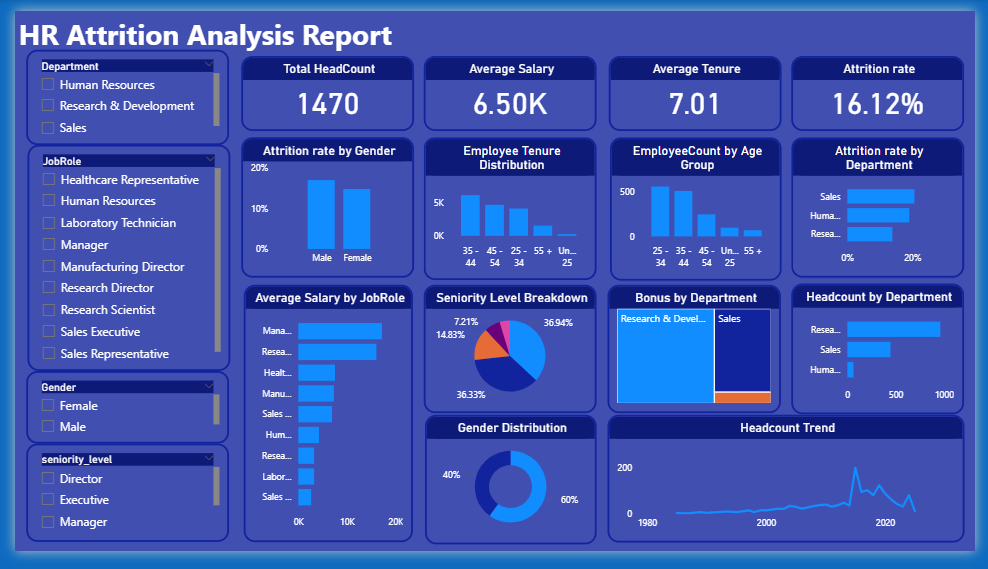

Layout of this report page (visuals, bound fields, positions):
{"tool":"powerbi","page":{"name":"Page 1","canvas":[1280,720],"ordinal":0},"visuals":[{"type":"textbox","box":[0,0,531,60.4],"z":0},{"type":"slicer","fields":{"Values":["HR_Data.Department"]},"box":[15.7,51.4,270,127.1],"z":1000},{"type":"slicer","fields":{"Values":["HR_Data.JobRole"]},"box":[17.1,178.6,270,301.4],"z":2000},{"type":"slicer","fields":{"Values":["HR_Data.Gender"]},"box":[15.7,480,270,97.1],"z":3000},{"type":"slicer","fields":{"Values":["HR_Data.seniority_level"]},"box":[15.7,577.1,270,131.4],"z":4000},{"type":"card","title":"Average Salary","fields":{"Values":["Avg(HR_Data.MonthlyIncome)"]},"box":[545.7,60,230,100],"z":5000},{"type":"card","title":"Average Tenure","fields":{"Values":["Avg(HR_Data.YearsAtCompany)"]},"box":[791.4,60,230,100],"z":6000},{"type":"card","title":"Attrition rate","fields":{"Values":["HR_Data.Attrition rate"]},"box":[1035.7,60,230,100],"z":7000},{"type":"card","title":"Total HeadCount","fields":{"Values":["Sum(HR_Data.EmployeeCount)"]},"box":[301.4,60,230,100],"z":8000},{"type":"clusteredBarChart","title":"Headcount by Department","fields":{"Category":["HR_Data.Department"],"Y":["Sum(HR_Data.EmployeeCount)"]},"box":[1035.7,362.9,230,174.3],"z":9000},{"type":"clusteredBarChart","fields":{"Category":["HR_Data.Department"],"Y":["HR_Data.Attrition rate"]},"box":[1035.7,168.6,230,187.1],"z":10000},{"type":"columnChart","title":"EmployeeCount by Age Group","fields":{"Category":["HR_Data.Age Group"],"Y":["Sum(HR_Data.EmployeeCount)"]},"box":[792.9,168.6,228.6,191.4],"z":11000},{"type":"donutChart","title":"Gender Distribution","fields":{"Category":["HR_Data.Gender"],"Y":["Sum(HR_Data.EmployeeCount)"]},"box":[547.1,538.6,228.6,172.9],"z":12000},{"type":"lineChart","title":"Headcount Trend","fields":{"Category":["HR_Data.Hired Year"],"Y":["Sum(HR_Data.EmployeeCount)"]},"box":[790,538.6,475.7,170],"z":13000},{"type":"clusteredBarChart","fields":{"Category":["HR_Data.JobRole"],"Y":["HR_Data.Average Salary"]},"box":[305.7,365.7,225.7,342.9],"z":14000},{"type":"clusteredColumnChart","fields":{"Category":["HR_Data.Gender"],"Y":["HR_Data.Attrition rate"]},"box":[301.4,168.6,230,187.1],"z":15000},{"type":"pieChart","title":"Seniority Level Breakdown","fields":{"Category":["HR_Data.seniority_level"],"Y":["Sum(HR_Data.EmployeeCount)"]},"box":[545.3,364.3,230.4,171.3],"z":16000},{"type":"clusteredColumnChart","title":"Employee Tenure Distribution","fields":{"Y":["Sum(HR_Data.TotalWorkingYears)"],"Category":["HR_Data.Age Group"]},"box":[545.3,168.9,230.4,190.6],"z":17000},{"type":"treemap","title":" Bonus by Department","fields":{"Group":["HR_Data.Department"],"Values":["HR_Data.Total Annual Bonus"]},"box":[790,365.7,231.4,171.4],"z":18000}]}

Visuals, with their boxes in screenshot pixels (x1, y1, x2, y2), scaled from the page's 1280x720 canvas onto the 988x569 screenshot:
textbox: [left=0, top=0, right=410, bottom=48]
slicer - HR_Data.Department: [left=12, top=41, right=221, bottom=141]
slicer - HR_Data.JobRole: [left=13, top=141, right=222, bottom=379]
slicer - HR_Data.Gender: [left=12, top=379, right=221, bottom=456]
slicer - HR_Data.seniority_level: [left=12, top=456, right=221, bottom=560]
"Average Salary" card: [left=421, top=47, right=599, bottom=126]
"Average Tenure" card: [left=611, top=47, right=788, bottom=126]
"Attrition rate" card: [left=799, top=47, right=977, bottom=126]
"Total HeadCount" card: [left=233, top=47, right=410, bottom=126]
"Headcount by Department" clusteredBarChart: [left=799, top=287, right=977, bottom=425]
clusteredBarChart - HR_Data.Department x HR_Data.Attrition rate: [left=799, top=133, right=977, bottom=281]
"EmployeeCount by Age Group" columnChart: [left=612, top=133, right=788, bottom=284]
"Gender Distribution" donutChart: [left=422, top=426, right=599, bottom=562]
"Headcount Trend" lineChart: [left=610, top=426, right=977, bottom=560]
clusteredBarChart - HR_Data.JobRole x HR_Data.Average Salary: [left=236, top=289, right=410, bottom=560]
clusteredColumnChart - HR_Data.Gender x HR_Data.Attrition rate: [left=233, top=133, right=410, bottom=281]
"Seniority Level Breakdown" pieChart: [left=421, top=288, right=599, bottom=423]
"Employee Tenure Distribution" clusteredColumnChart: [left=421, top=133, right=599, bottom=284]
" Bonus by Department" treemap: [left=610, top=289, right=788, bottom=424]
